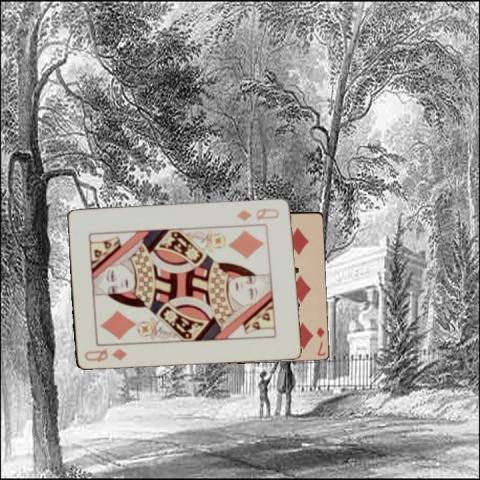7d: (313, 324, 327, 357)
Qd: (81, 345, 128, 364), (235, 205, 280, 223)
